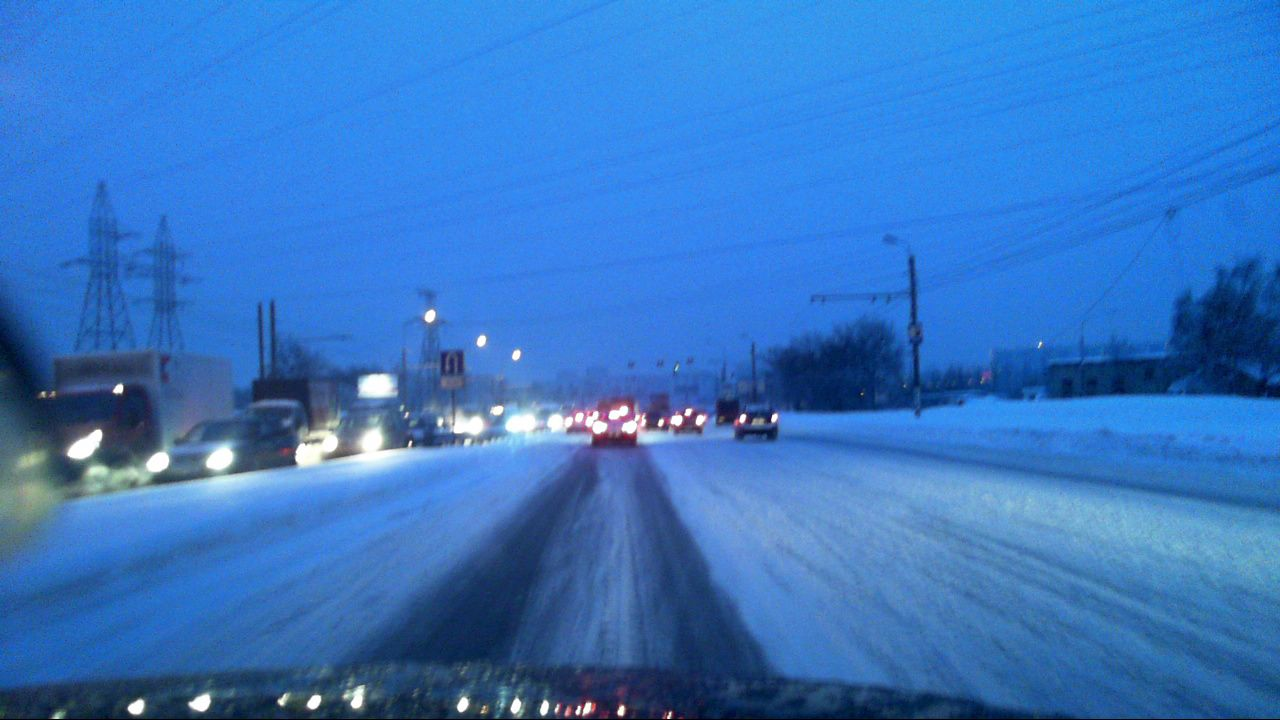U-turn: (440, 350, 463, 374)
